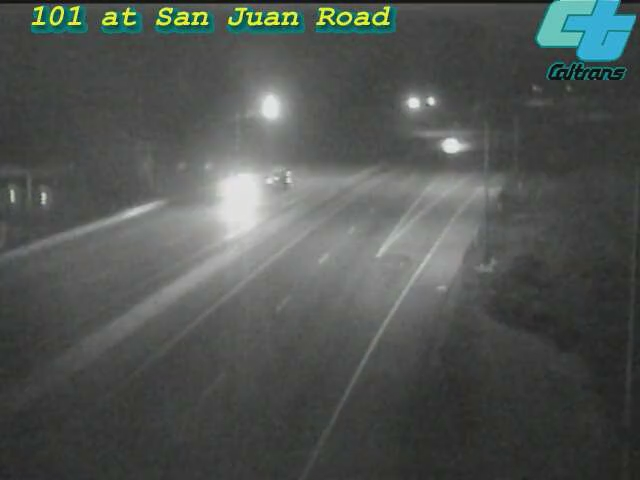vehicle: (209, 147, 289, 227), (426, 119, 476, 169), (603, 88, 640, 138)
